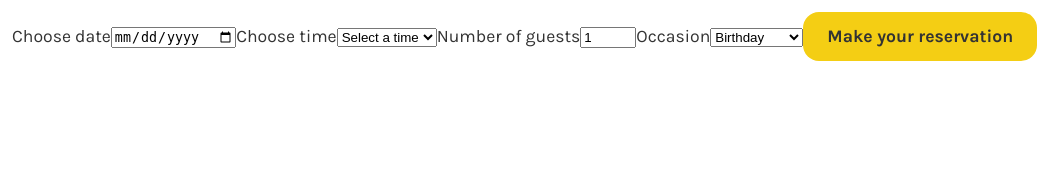
Test: BookingForm validation › rejects a date in the past
Type "2099-01-15" into the date field labelled "Choose date".
click(174, 38); type("2099-01-15")  # box [111, 27, 236, 48]
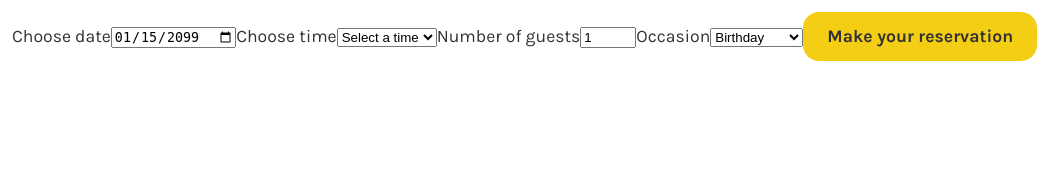
Select "18:00" in the dropdown labelled "Choose time" at (387, 38), box [337, 28, 437, 47]
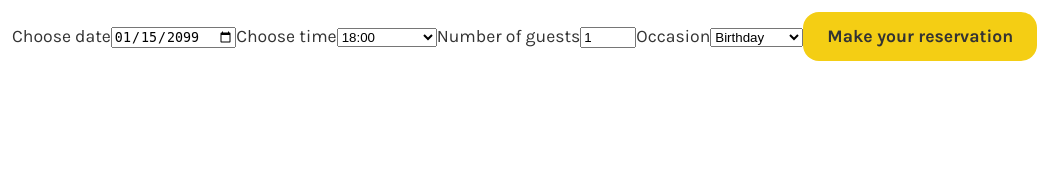
Replace the text in the number field labelled "Number of guests" with "4" at (608, 38), box [580, 27, 636, 48]
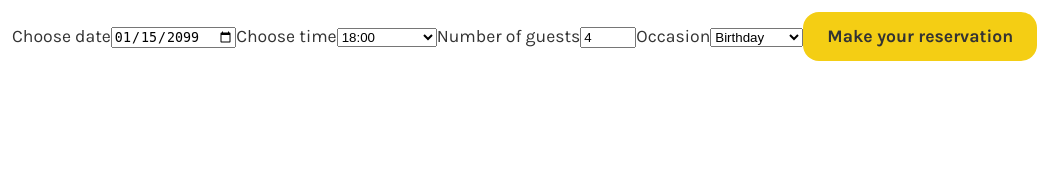
Type "2020-01-01" into the date field labelled "Choose date".
click(174, 38); type("2020-01-01")  # box [111, 27, 236, 48]
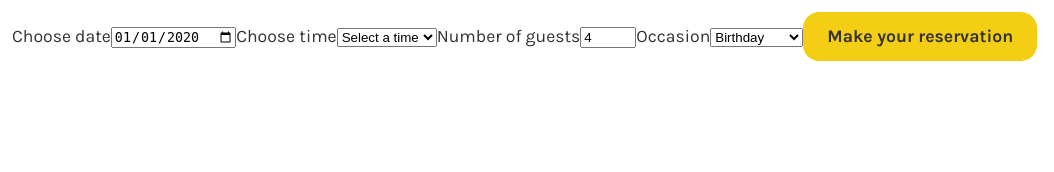
Select "18:00" in the dropdown labelled "Choose time" at (387, 38), box [337, 28, 437, 47]
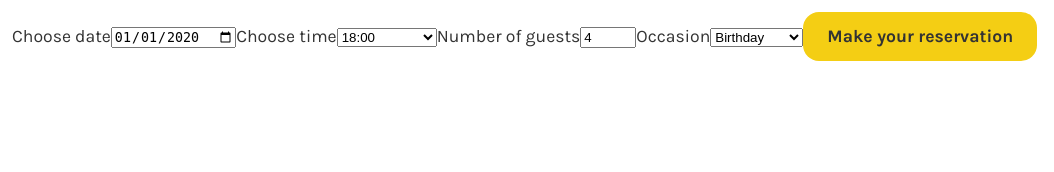
Click the button "Make your reservation".
click(920, 36)  # box [803, 12, 1037, 61]
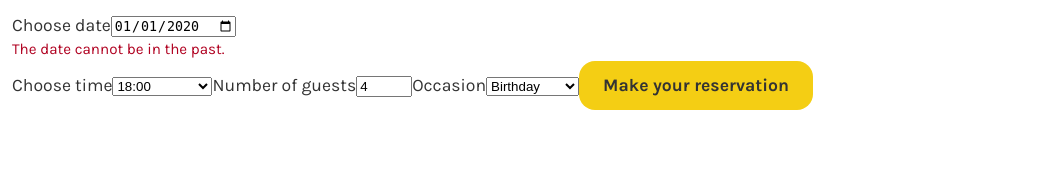
Expected: the text "The date cannot be in the past." is shown, [12, 40, 224, 58]
